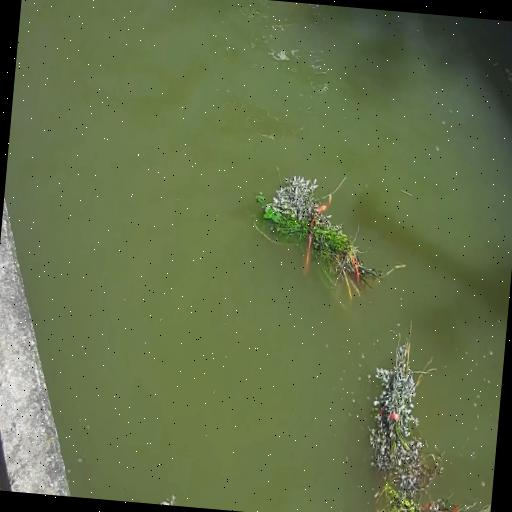twig: (355, 317, 500, 512), (250, 170, 398, 300)
